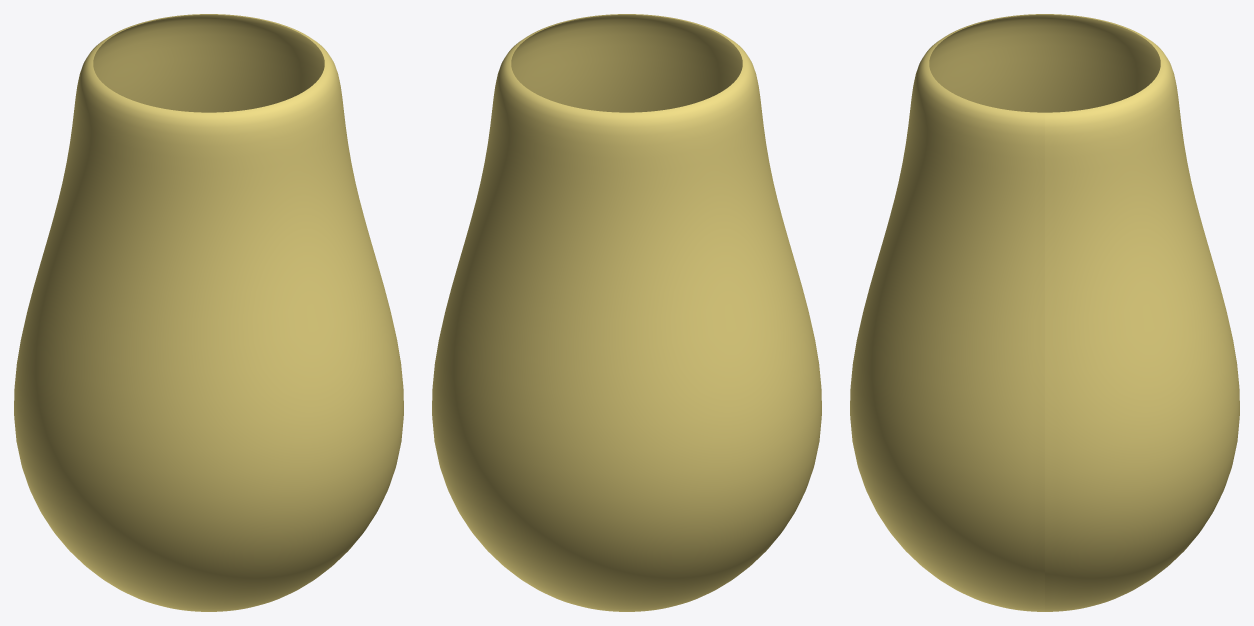
File: ch_integral_solid.gltf
The picture shows the model from 3 angles, left to right: view 1: azimuth 30°, elevation 25°; view 2: azimuth 150°, elevation 25°; view 3: azimuth 270°, elevation 25°; orthographic projection.
Parts seen in each view (by area): view 1: Revolve; view 2: Revolve; view 3: Revolve.
Part boxes in pixels (bbox=[...]): Revolve: bbox=[14, 14, 403, 611]; Revolve: bbox=[432, 14, 821, 611]; Revolve: bbox=[850, 14, 1239, 611].
Bounding box in the file's own units: 1.85 × 2.7 × 1.85.
